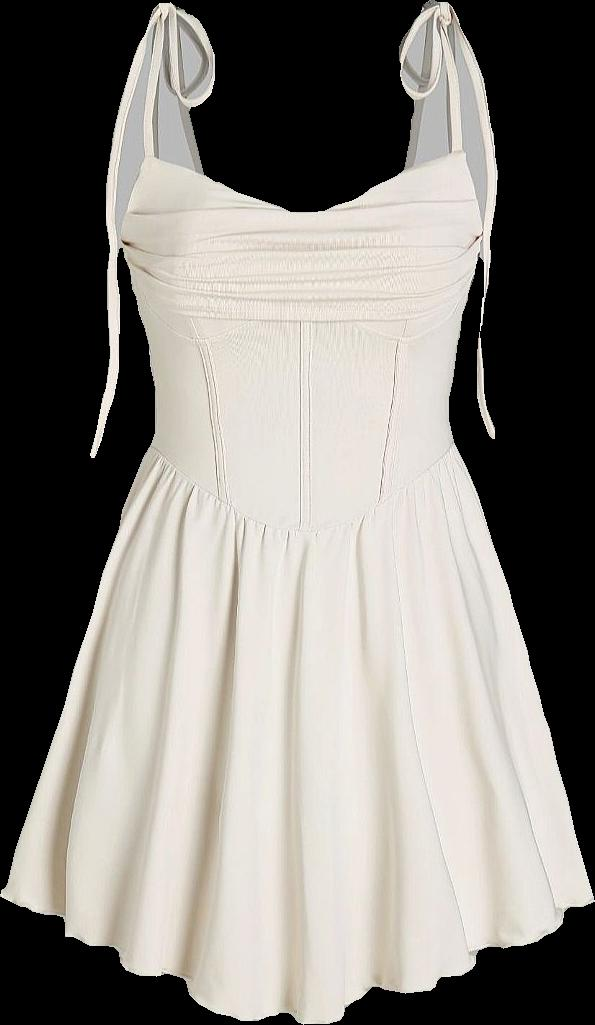Bodice: (120, 0, 487, 540)
Hemline: (0, 886, 594, 1024)
Neckline: (155, 0, 453, 225)
Skirt: (0, 442, 593, 1022)
Waistline: (148, 436, 458, 545)
